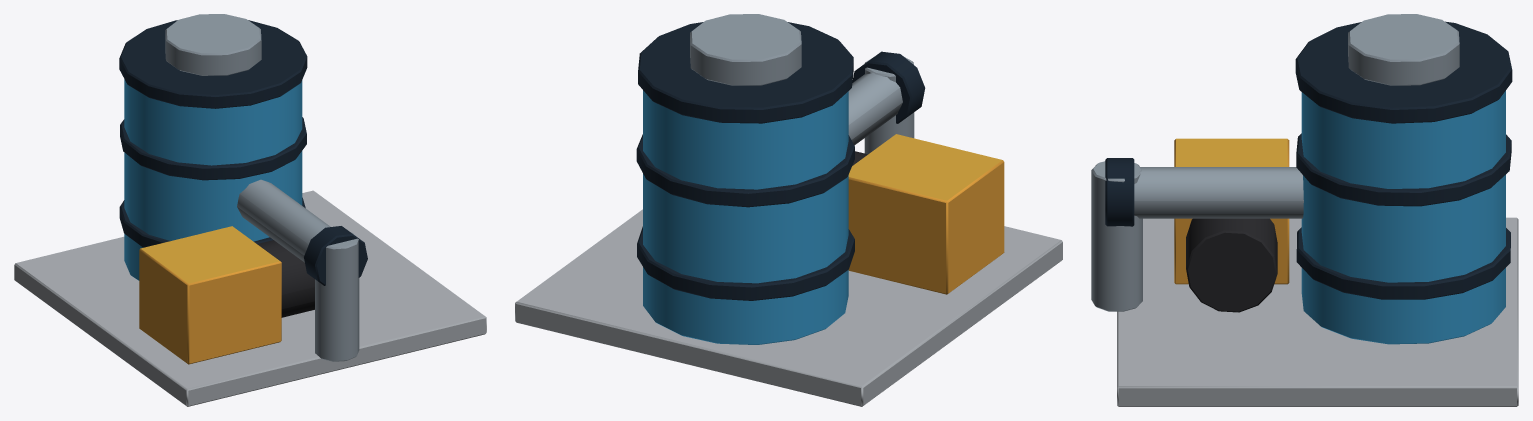
Rendered from Pump.glb.
3 views of the same model, side by side, from view 1: azimuth 30°, elevation 25°; view 2: azimuth 150°, elevation 25°; view 3: azimuth 270°, elevation 25° (orthographic). The views are drawn at different scales.
Parts seen in each view (by area): view 1: Pump; view 2: Pump; view 3: Pump.
Boxes of the visible parts, box(x1,y1,x2,y2) form: Pump: box(14, 14, 486, 406); Pump: box(515, 14, 1062, 406); Pump: box(1091, 14, 1518, 406).
Size of the model in its own units: 14.01 by 11.01 by 14.9.
